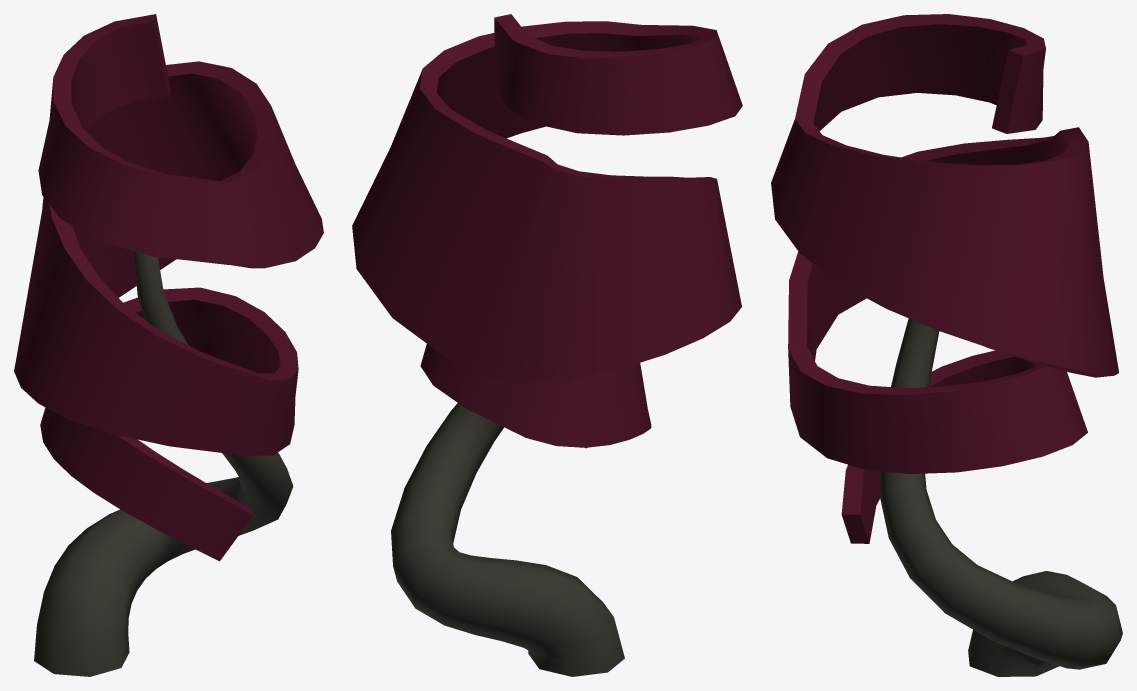
File: tree_spiral_1.glb
The picture shows the model from 3 angles, left to right: view 1: azimuth 30°, elevation 25°; view 2: azimuth 150°, elevation 25°; view 3: azimuth 270°, elevation 25°; orthographic projection. The views are drawn at different scales.
Parts seen in each view (by area): view 1: Tree_Spiral_1; view 2: Tree_Spiral_1; view 3: Tree_Spiral_1.
Part boxes in pixels (bbox=[...]): Tree_Spiral_1: bbox=[14, 14, 323, 676]; Tree_Spiral_1: bbox=[352, 14, 742, 676]; Tree_Spiral_1: bbox=[771, 14, 1122, 676].
Bounding box in the file's own units: 2.36 × 4.49 × 2.23.
Materials: 1 (1 with a texture image).
